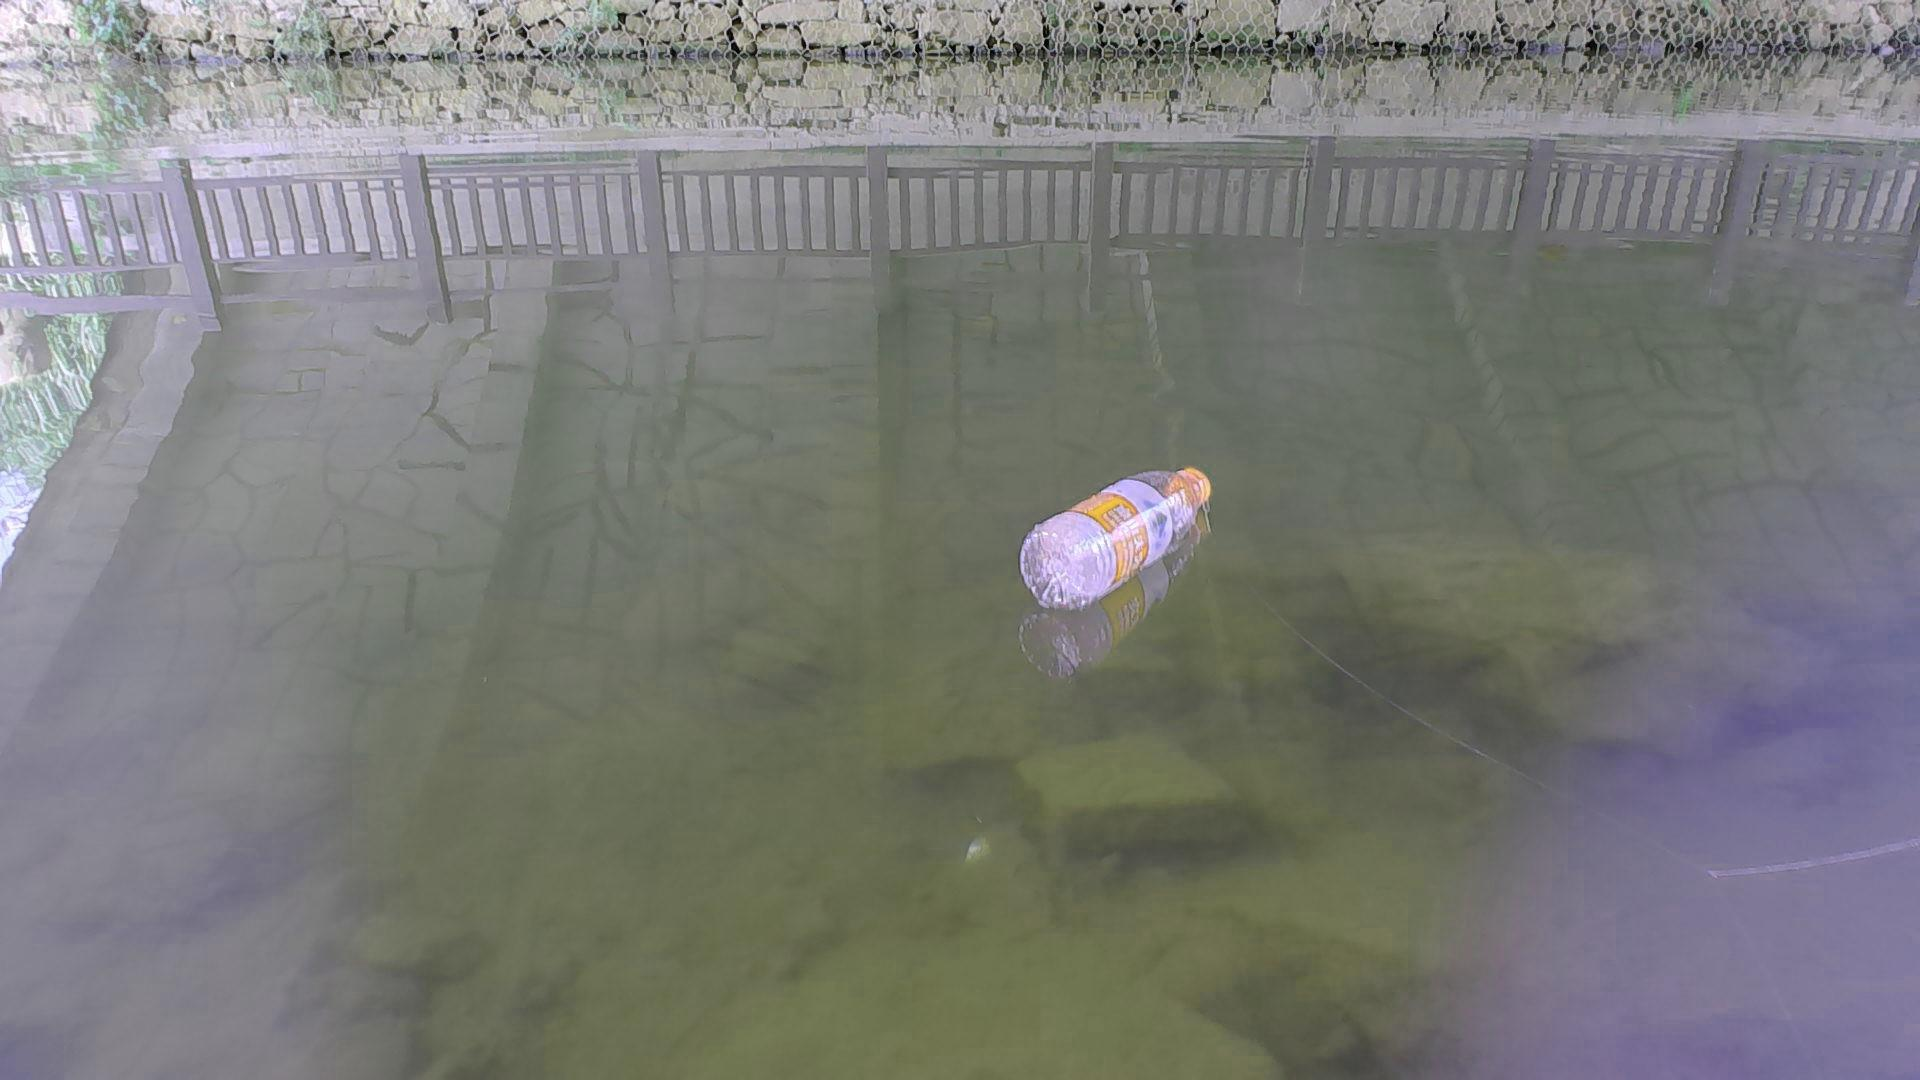Plastic: (1019, 462, 1216, 612)
